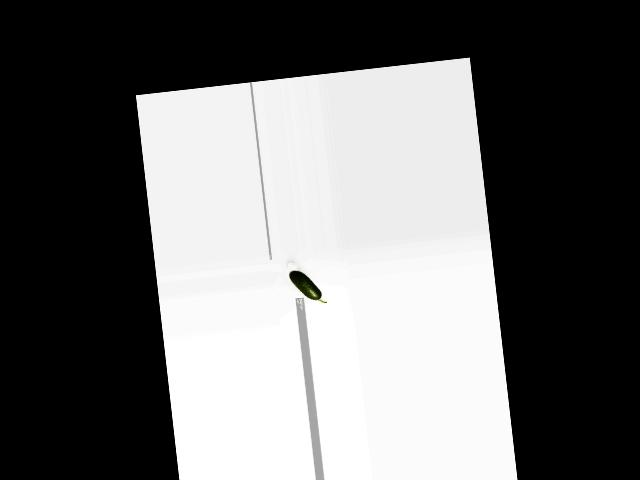cucumber: (288, 268, 326, 307)
